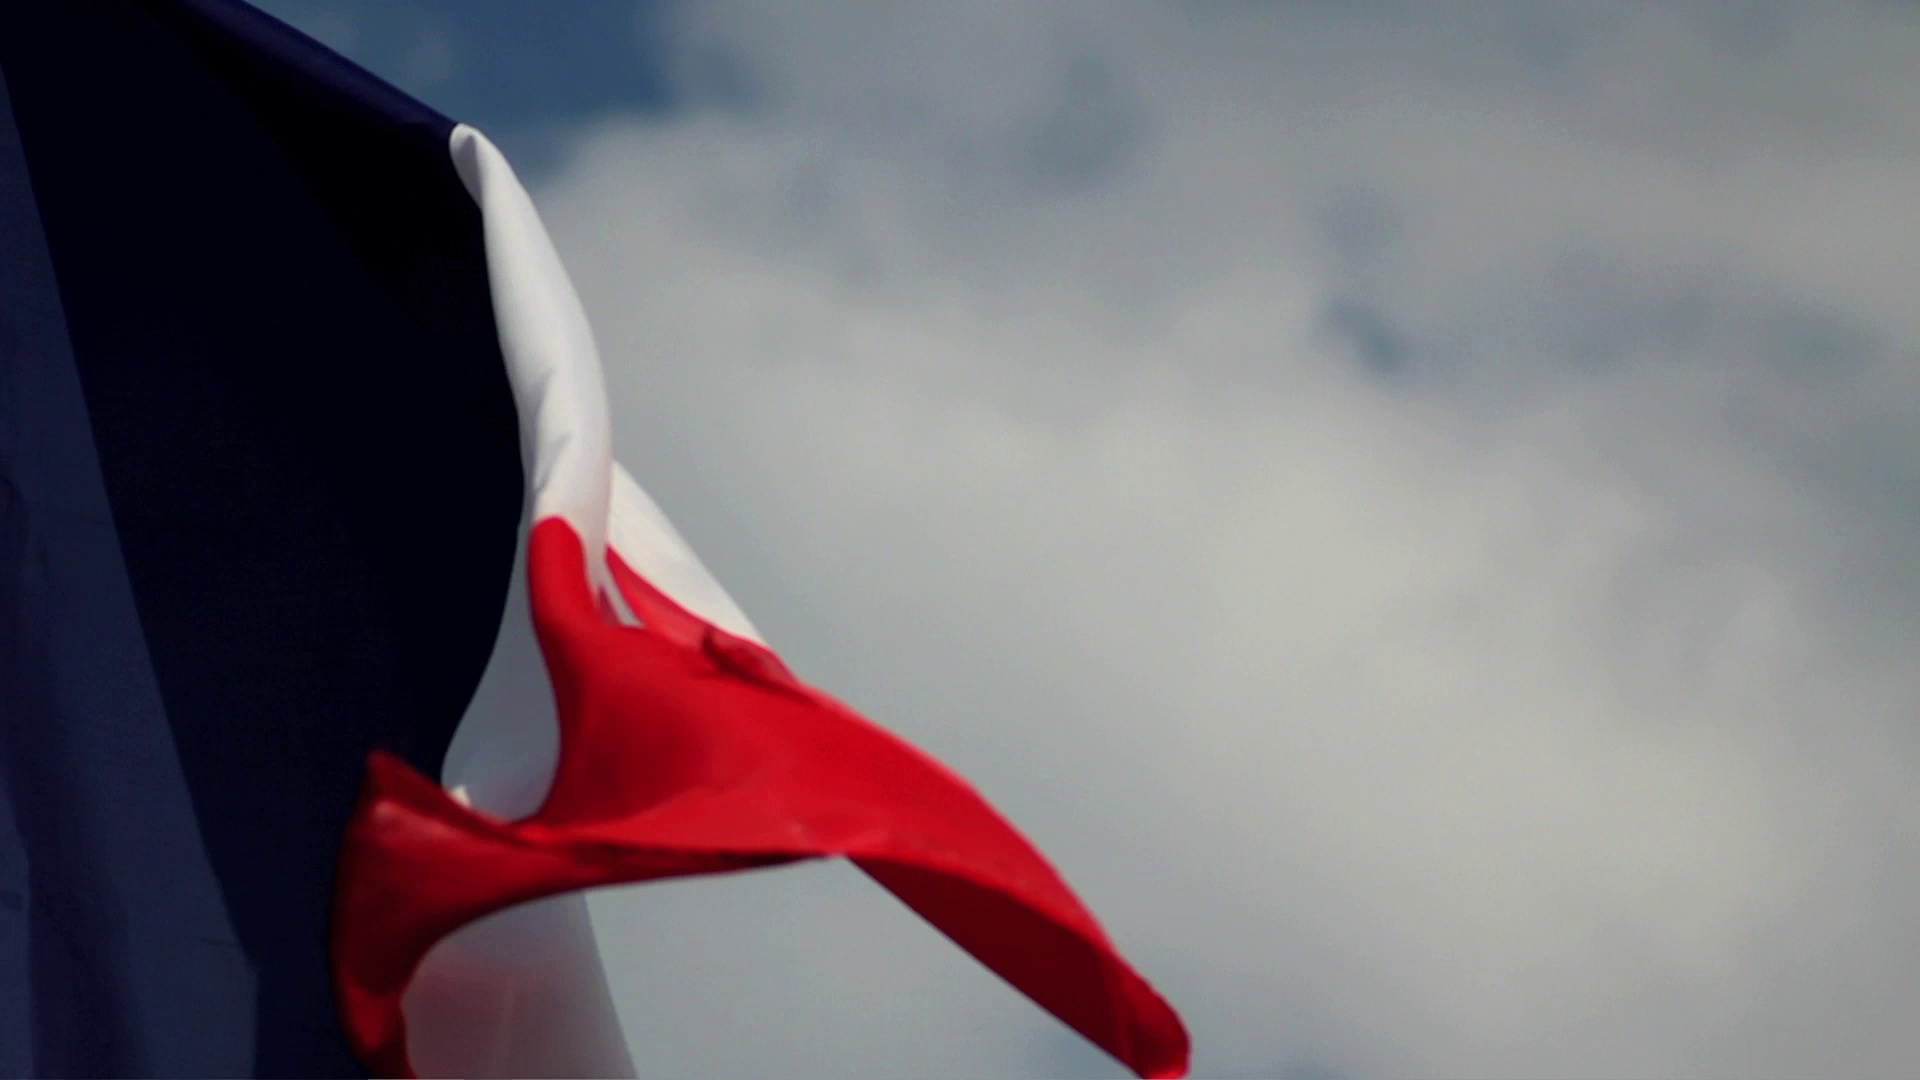French Flag: (1, 1, 1197, 1080)
